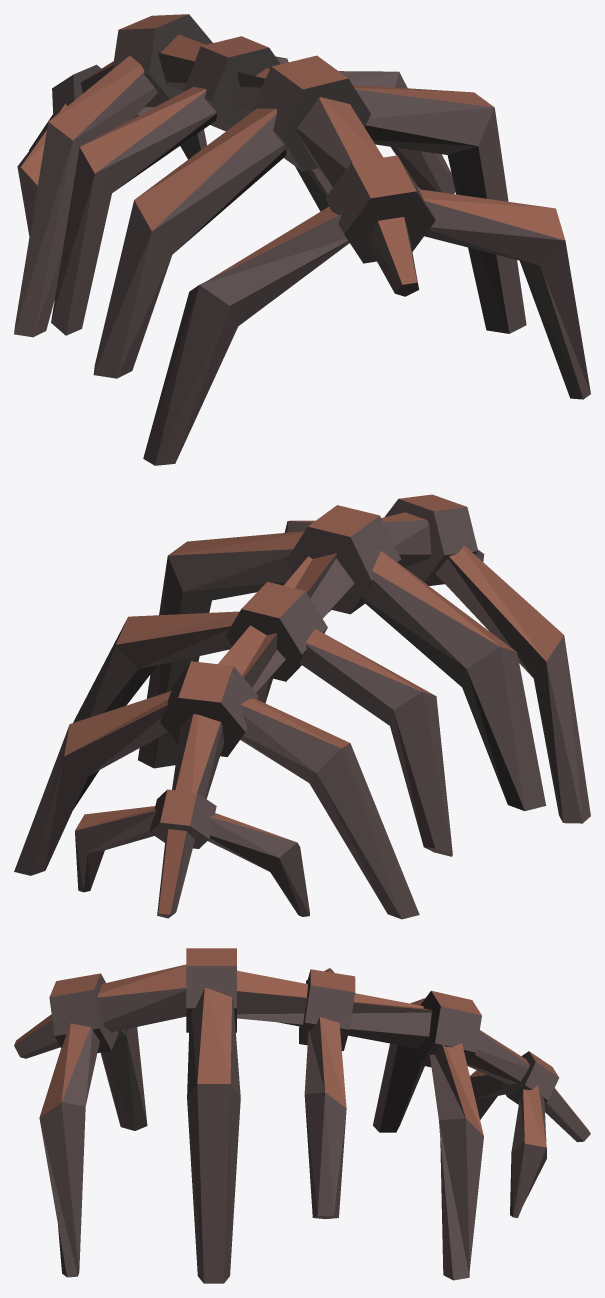
The model's file is TB_D_Env_BoneC_C.FBX.
3 views of the same model, one above another, from view 1: azimuth 30°, elevation 25°; view 2: azimuth 150°, elevation 25°; view 3: azimuth 270°, elevation 25° (orthographic). The views are drawn at different scales.
Visible parts, largest first — view 1: TB_D_Env_BoneC_C; view 2: TB_D_Env_BoneC_C; view 3: TB_D_Env_BoneC_C.
Boxes of the visible parts, x1,y1,x2,y2 form: TB_D_Env_BoneC_C: [14, 14, 590, 465]; TB_D_Env_BoneC_C: [14, 494, 590, 919]; TB_D_Env_BoneC_C: [14, 948, 590, 1283].
Size of the model in its own units: 3.19 by 2.16 by 4.59.
